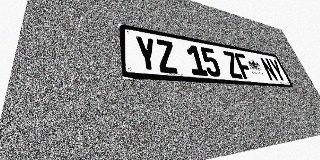1: (185, 44, 208, 76)
5: (200, 47, 223, 77)
F: (233, 52, 255, 80)
N: (259, 57, 279, 81)
Y: (134, 35, 160, 72), (268, 58, 287, 82)
Z: (154, 39, 179, 74), (222, 50, 244, 79)
